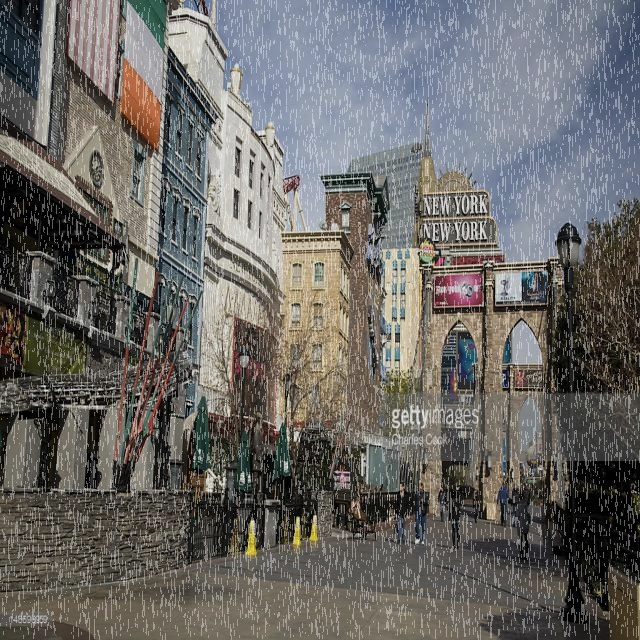pessoa: (250, 411, 266, 507), (514, 488, 532, 562), (412, 480, 429, 548), (447, 485, 463, 551), (393, 480, 409, 544), (496, 479, 510, 528), (510, 480, 522, 528), (437, 483, 449, 523), (472, 486, 482, 524), (530, 269, 538, 298), (516, 366, 526, 389), (523, 482, 531, 510)
